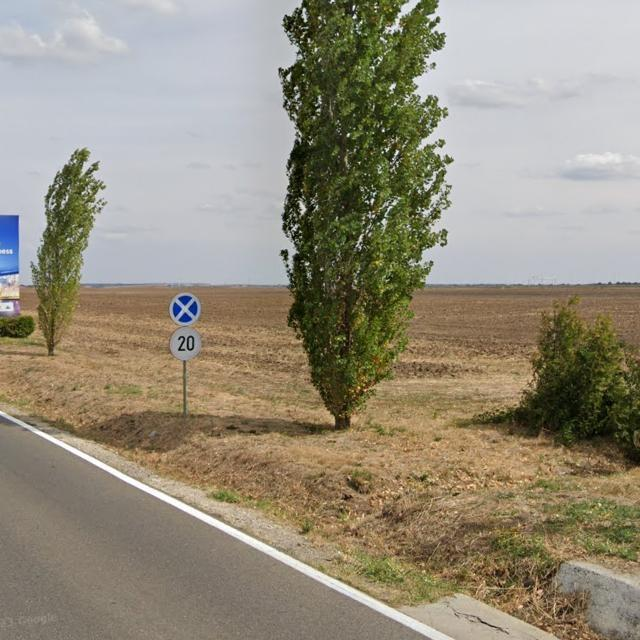forb_speed_over_20: (170, 327, 203, 361)
forb_waiting: (170, 293, 201, 325)
